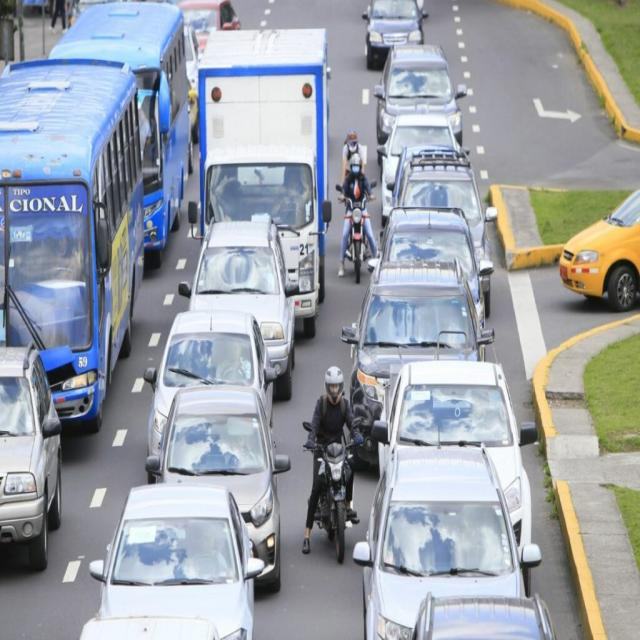BUS: (0, 72, 138, 431), (34, 0, 191, 247)
MOTORCYCLE: (318, 432, 358, 570), (341, 193, 374, 290)
TRUCK: (196, 28, 327, 335)
